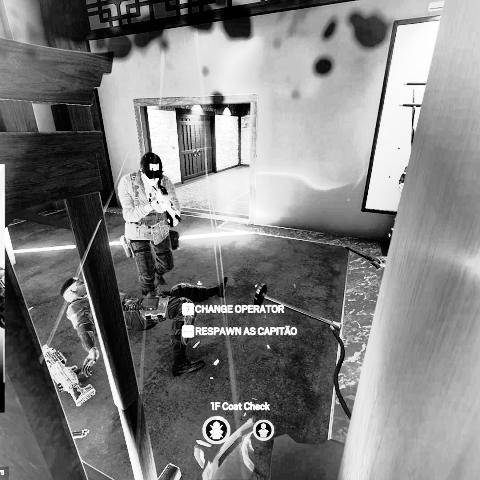Character: (59, 275, 229, 377), (117, 151, 184, 299)
Head: (139, 152, 163, 187), (61, 277, 87, 301)
